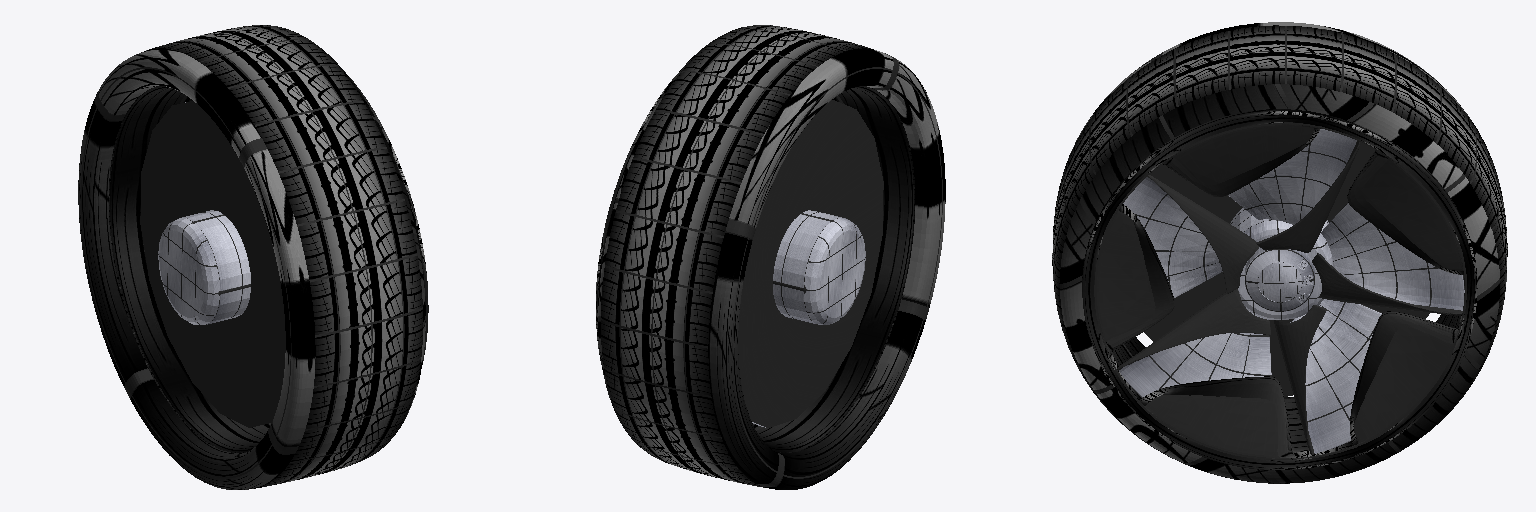
3 renders of one model, left to right at view 1: azimuth 30°, elevation 25°; view 2: azimuth 150°, elevation 25°; view 3: azimuth 270°, elevation 25°, orthographic.
Visible parts, largest first — view 1: Torus01, Cylinder03, Tube16, ChamferCyl08; view 2: Torus01, Cylinder03, Tube16, ChamferCyl08; view 3: Torus01, Tube16, Plane36, Plane32, Plane35, Plane34, Plane33, Cylinder03, OilTank04, ChamferCyl08.
Boxes of the visible parts, box(x1,y1,x2,y2) form: Torus01: box(78, 25, 425, 489); Cylinder03: box(140, 101, 285, 427); Tube16: box(110, 72, 428, 452); ChamferCyl08: box(158, 210, 250, 324); Torus01: box(598, 25, 945, 489); Cylinder03: box(738, 100, 883, 427); Tube16: box(596, 77, 913, 452); ChamferCyl08: box(773, 210, 865, 324); Torus01: box(1052, 22, 1507, 483); Tube16: box(1082, 109, 1477, 469); Plane36: box(1274, 299, 1381, 454); Plane32: box(1312, 203, 1464, 314); Plane35: box(1117, 289, 1271, 397); Plane34: box(1123, 175, 1258, 297); Plane33: box(1228, 129, 1360, 252); Cylinder03: box(1144, 142, 1429, 396); OilTank04: box(1245, 248, 1314, 311); ChamferCyl08: box(1230, 208, 1332, 320).
Bounding box in the file's own units: 0.7232 × 1.92 × 1.92.
2 materials, 2 textured.